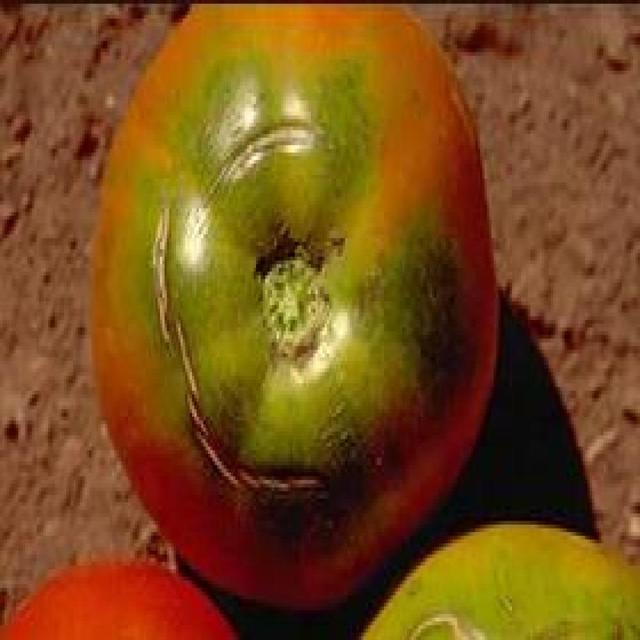Cracking Fruit: (29, 25, 294, 412)
